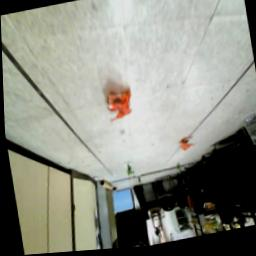herb: (124, 165, 135, 181)
wild: (103, 89, 135, 127), (176, 140, 197, 157)
